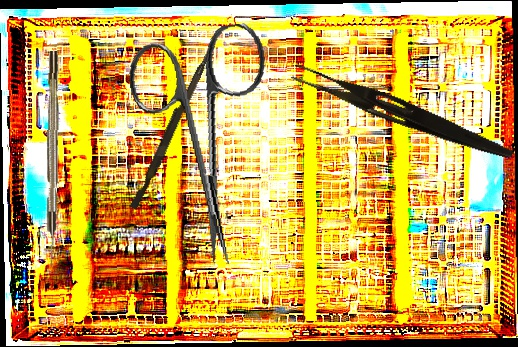Dressing Forceps: (288, 62, 518, 164)
Hook Surgical: (45, 50, 60, 268)
Iris Scissors: (123, 21, 293, 274)
Pusher: (129, 42, 215, 212)
